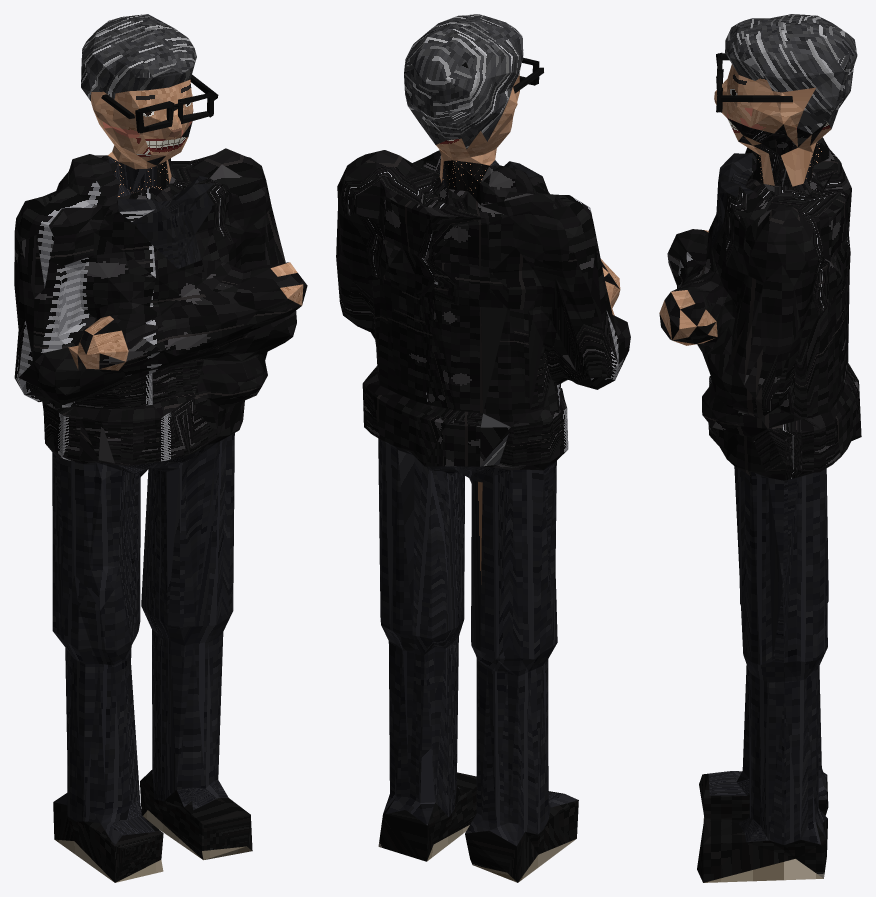
File: jensen.glb
3 views of the same model, side by side, from view 1: azimuth 30°, elevation 25°; view 2: azimuth 150°, elevation 25°; view 3: azimuth 270°, elevation 25° (orthographic). The views are drawn at different scales.
Visible parts, largest first — view 1: jensen; view 2: jensen; view 3: jensen.
Part boxes in pixels (box(x1,y1,x2,y2)): jensen: box(14, 14, 307, 882); jensen: box(336, 14, 630, 882); jensen: box(659, 14, 861, 882).
Bounding box in the file's own units: 0.6387 × 1.82 × 0.4018.
Materials: 1 (1 with a texture image).
